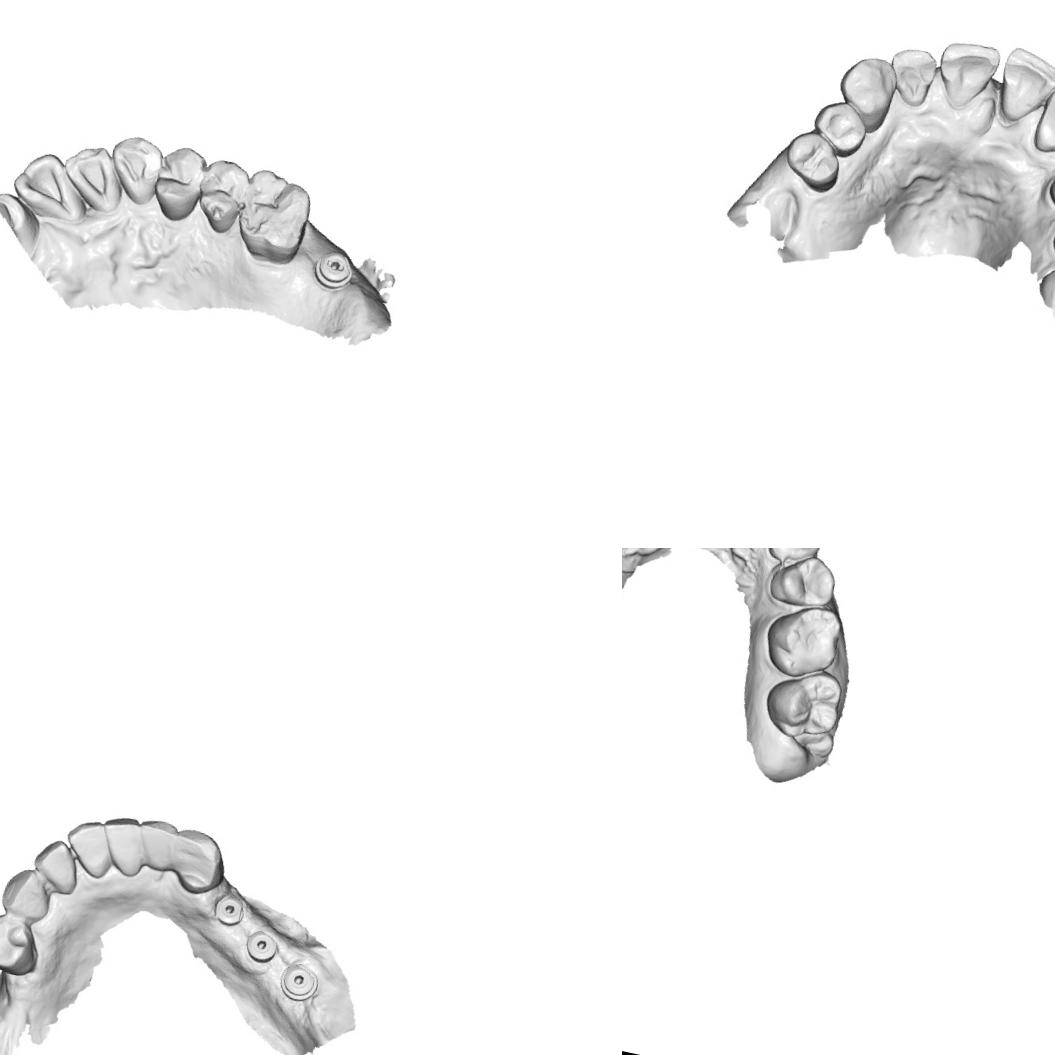canine: (832, 50, 904, 129), (102, 130, 170, 210), (164, 825, 232, 900), (0, 864, 56, 924), (762, 548, 830, 570)
implant: (275, 960, 322, 1006), (242, 927, 281, 966), (210, 891, 248, 929)
implant_minus: (306, 244, 359, 295)
incisor: (6, 145, 98, 228), (54, 138, 132, 217), (989, 42, 1055, 130), (931, 34, 1003, 114), (882, 42, 943, 110), (60, 814, 122, 880), (93, 812, 152, 880), (27, 834, 86, 897), (131, 816, 180, 873), (1030, 85, 1055, 160)
molar: (229, 164, 318, 270), (755, 596, 849, 686), (758, 660, 848, 748), (1030, 247, 1055, 342)
premolar: (146, 141, 211, 228), (189, 154, 254, 240), (766, 548, 842, 613), (780, 126, 848, 197), (806, 95, 872, 162), (0, 909, 45, 980)
